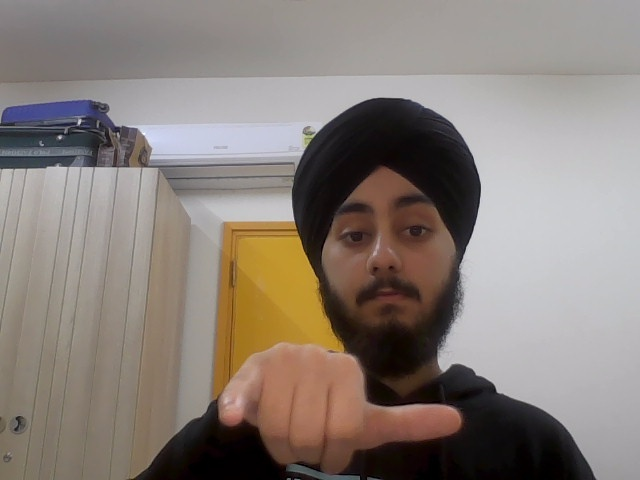Same: (217, 329, 463, 477)
